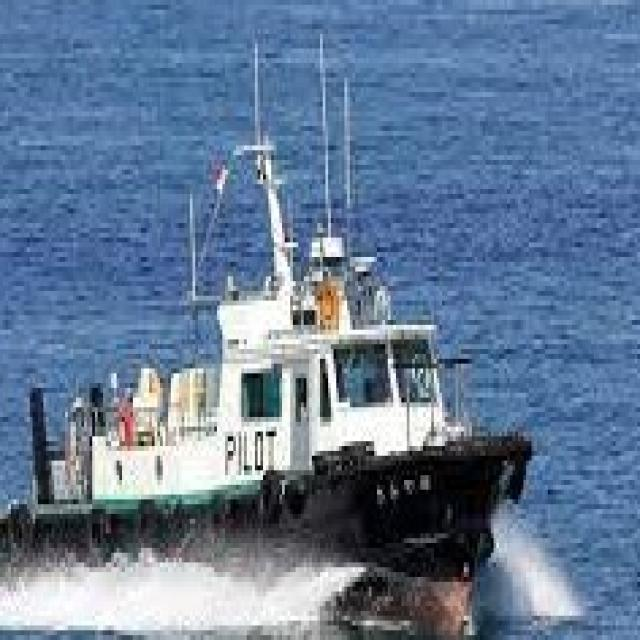houseboat: (0, 112, 526, 635)
